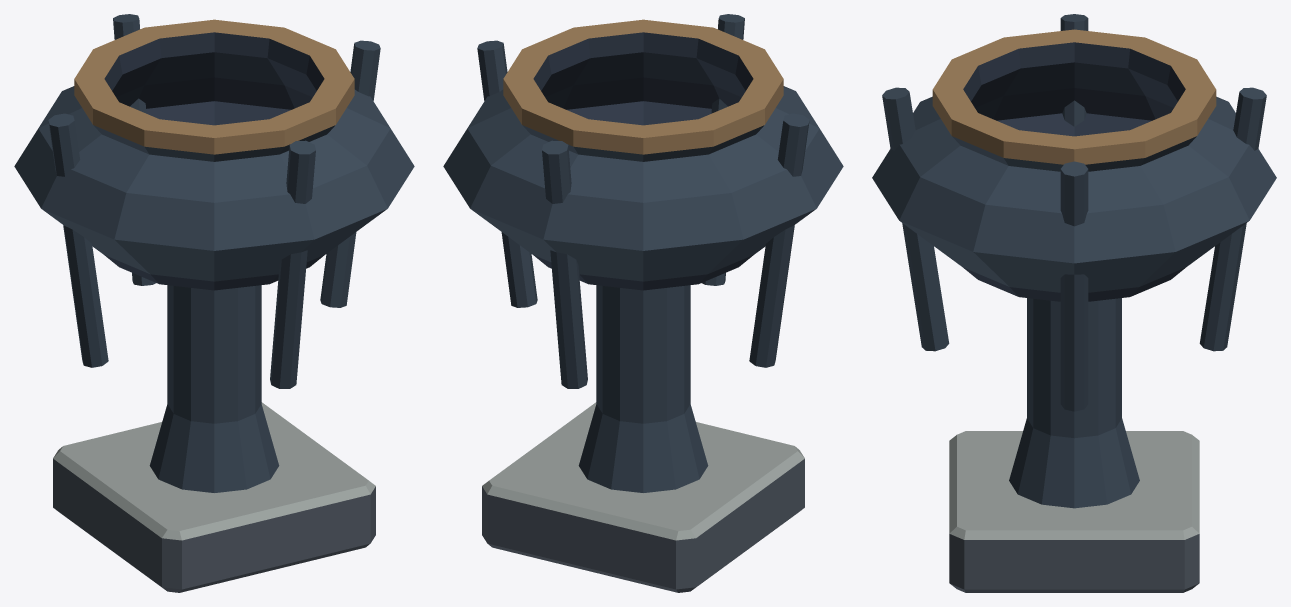
Rendered from brazier-large.glb.
3 views of the same model, side by side, from view 1: azimuth 30°, elevation 25°; view 2: azimuth 150°, elevation 25°; view 3: azimuth 270°, elevation 25° (orthographic).
Visible parts, largest first — view 1: brazier-large__body; view 2: brazier-large__body; view 3: brazier-large__body.
Boxes of the visible parts, x1,y1,x2,y2 form: brazier-large__body: (14,14,414,592); brazier-large__body: (443,14,843,592); brazier-large__body: (872,14,1276,592).
Bounding box in the file's own units: 1.02 × 1.26 × 1.02.
